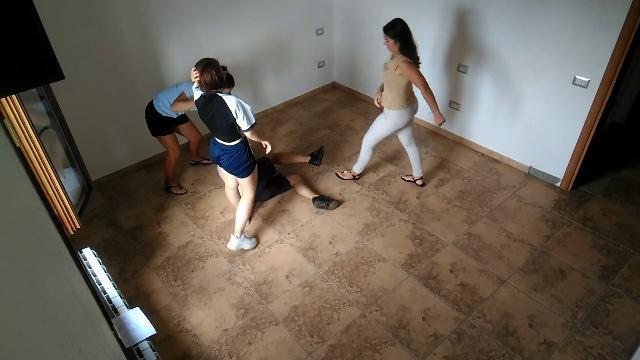non-violence: (334, 15, 448, 191)
violence: (144, 54, 344, 250)
